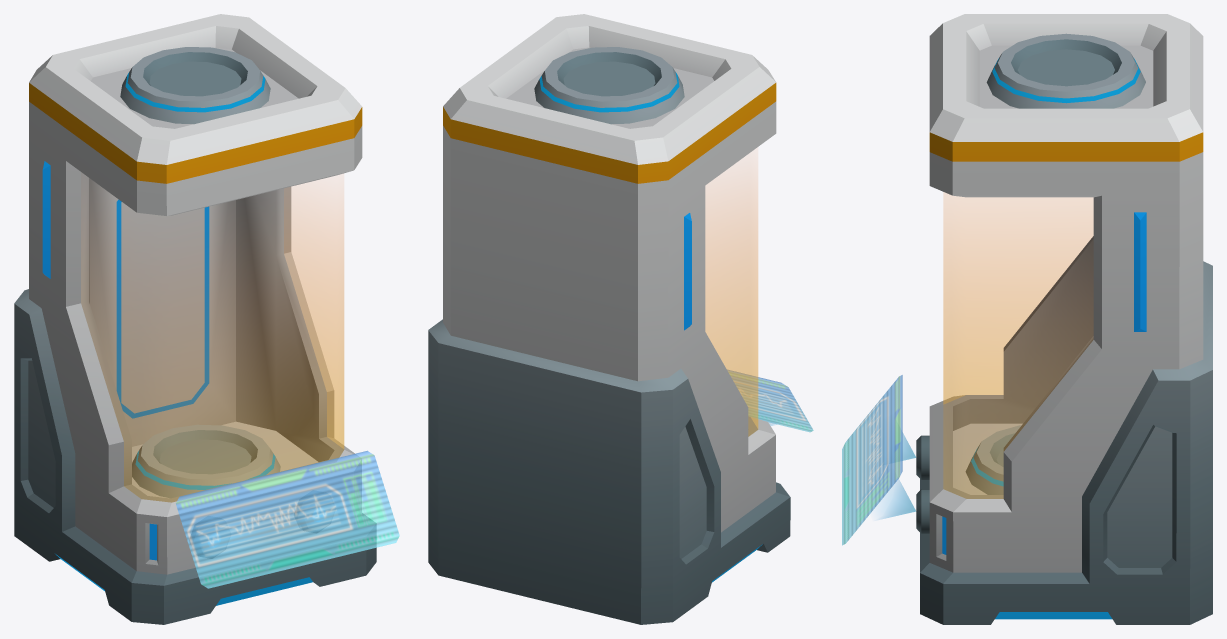
3 renders of one model, left to right at view 1: azimuth 30°, elevation 25°; view 2: azimuth 150°, elevation 25°; view 3: azimuth 270°, elevation 25°, orthographic. The views are drawn at different scales.
Visible parts, largest first — view 1: Сapsule_010, Сapsule_012; view 2: Сapsule_010, Сapsule_012; view 3: Сapsule_010, Сapsule_012.
Part boxes in pixels (x1=…): Сapsule_010: x1=14, y1=14, x2=376, y2=624; Сapsule_012: x1=176, y1=450, x2=399, y2=588; Сapsule_010: x1=428, y1=14, x2=790, y2=624; Сapsule_012: x1=727, y1=369, x2=813, y2=432; Сapsule_010: x1=916, y1=14, x2=1212, y2=624; Сapsule_012: x1=842, y1=375, x2=916, y2=545.
Bounding box in the file's own units: 1.09 × 2.01 × 1.36.
Materials: 5 (5 with a texture image).
